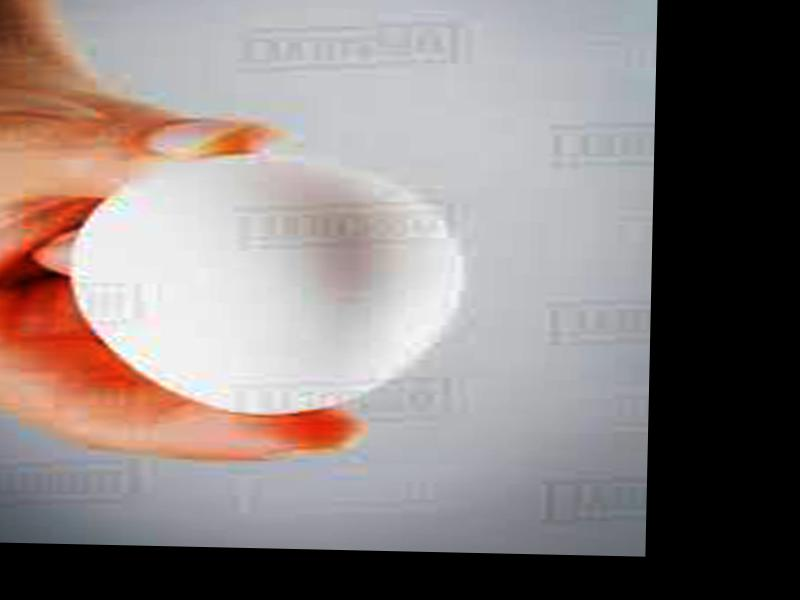Eggs: (83, 151, 461, 421)
